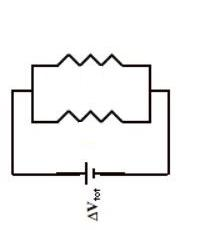resistor: (47, 98, 134, 131), (48, 44, 125, 73)
